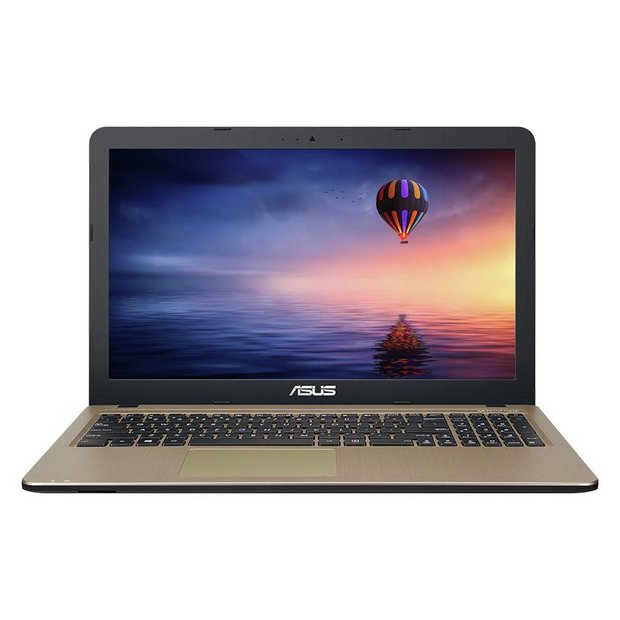Laptop: (15, 114, 606, 498)
